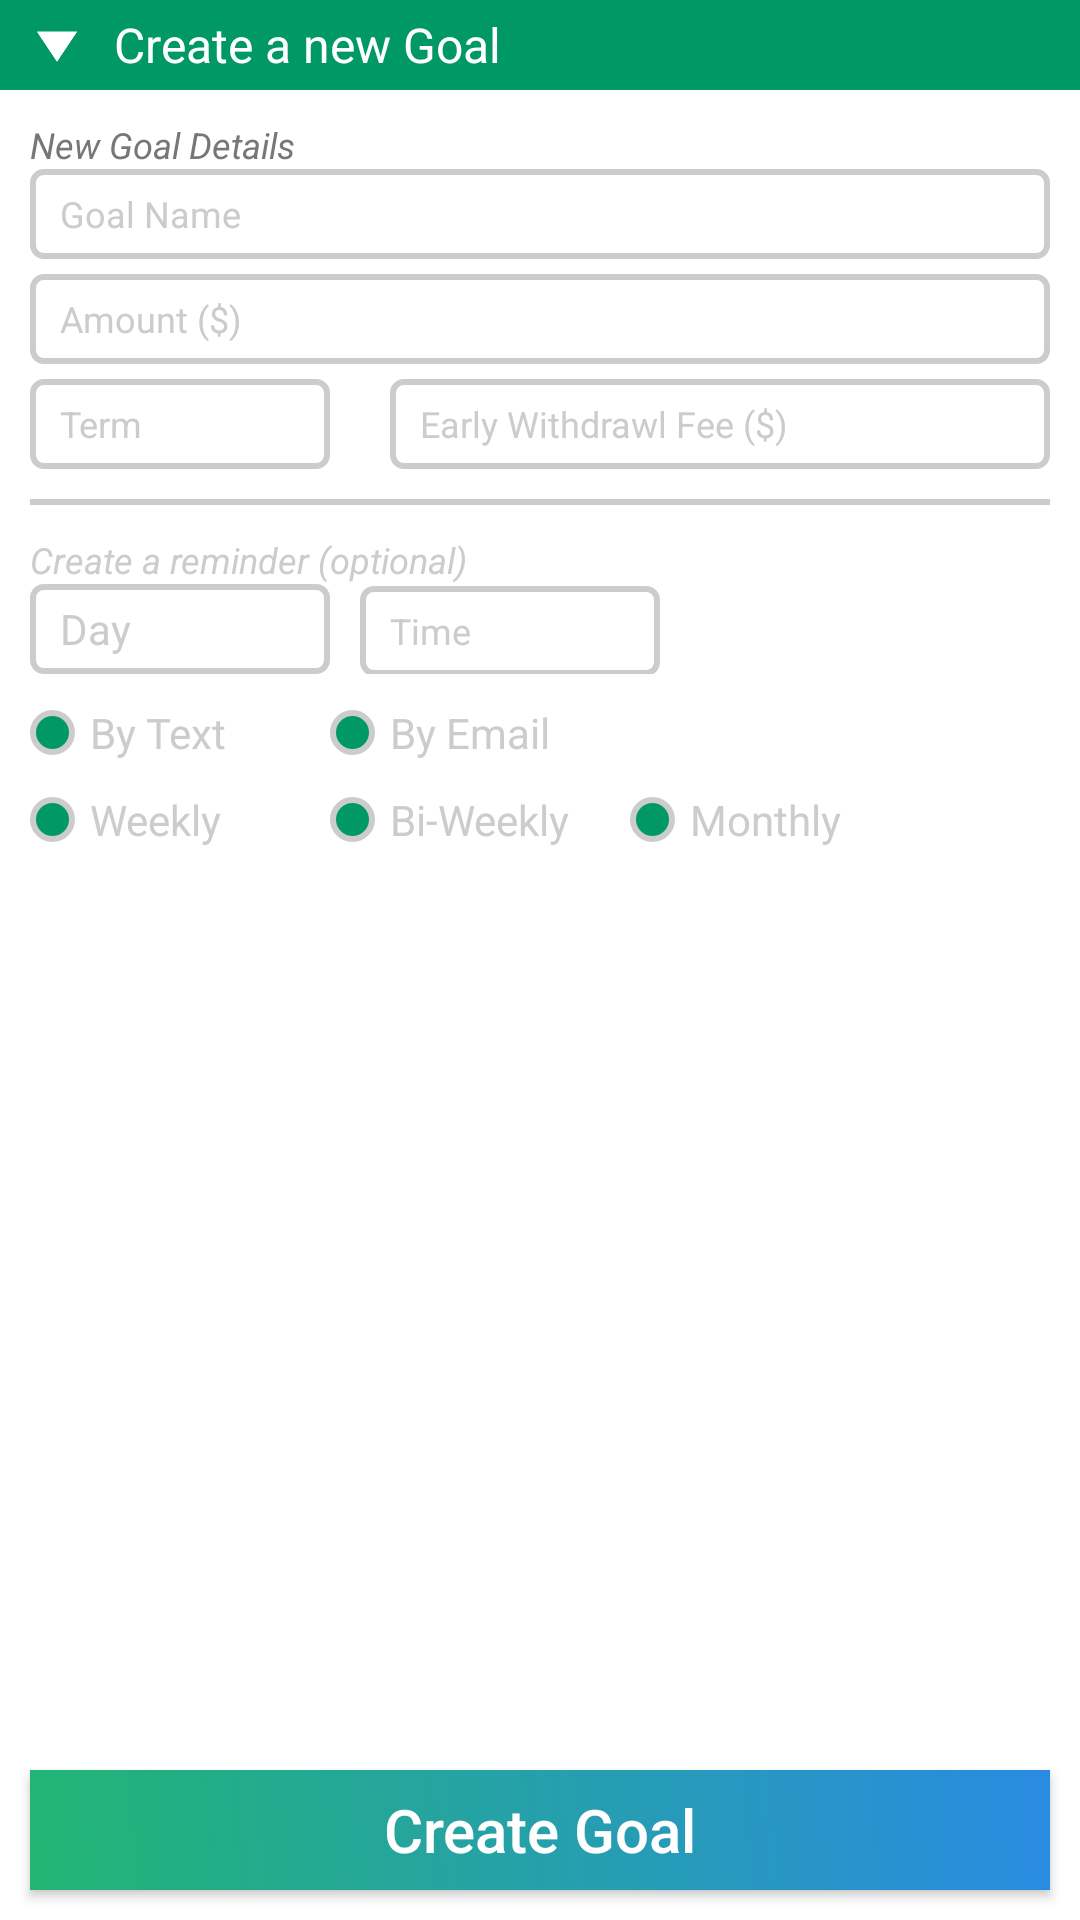

Icon click points for this 1080px x 1920px phone screenshot, format (x,y):
triangle down: (57,46)
